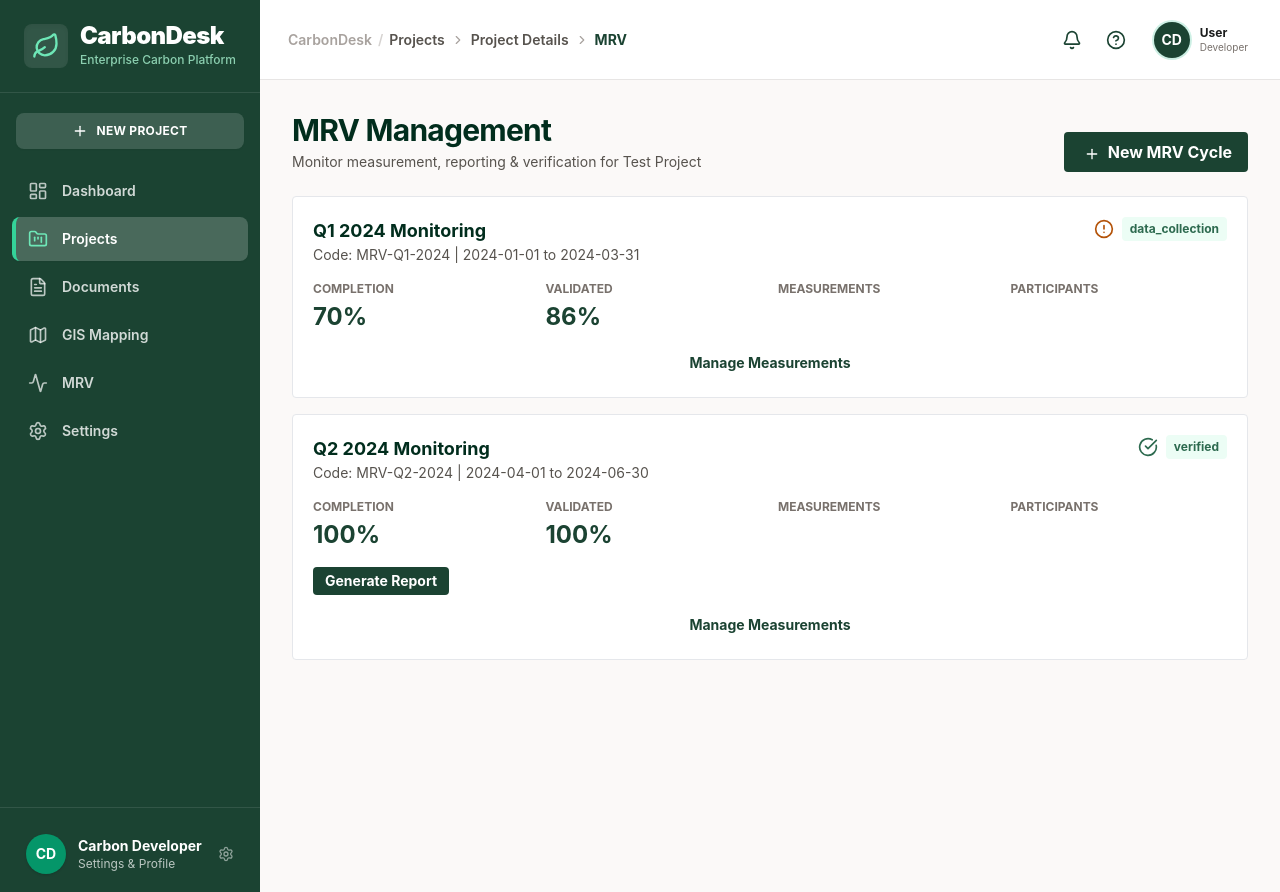
Test: MRVPage - Create Cycle Form › shows form when clicking Create button
The image size is (1280, 892).
Click the button "New MRV Cycle" at [1156, 152], box [1064,132,1248,172]
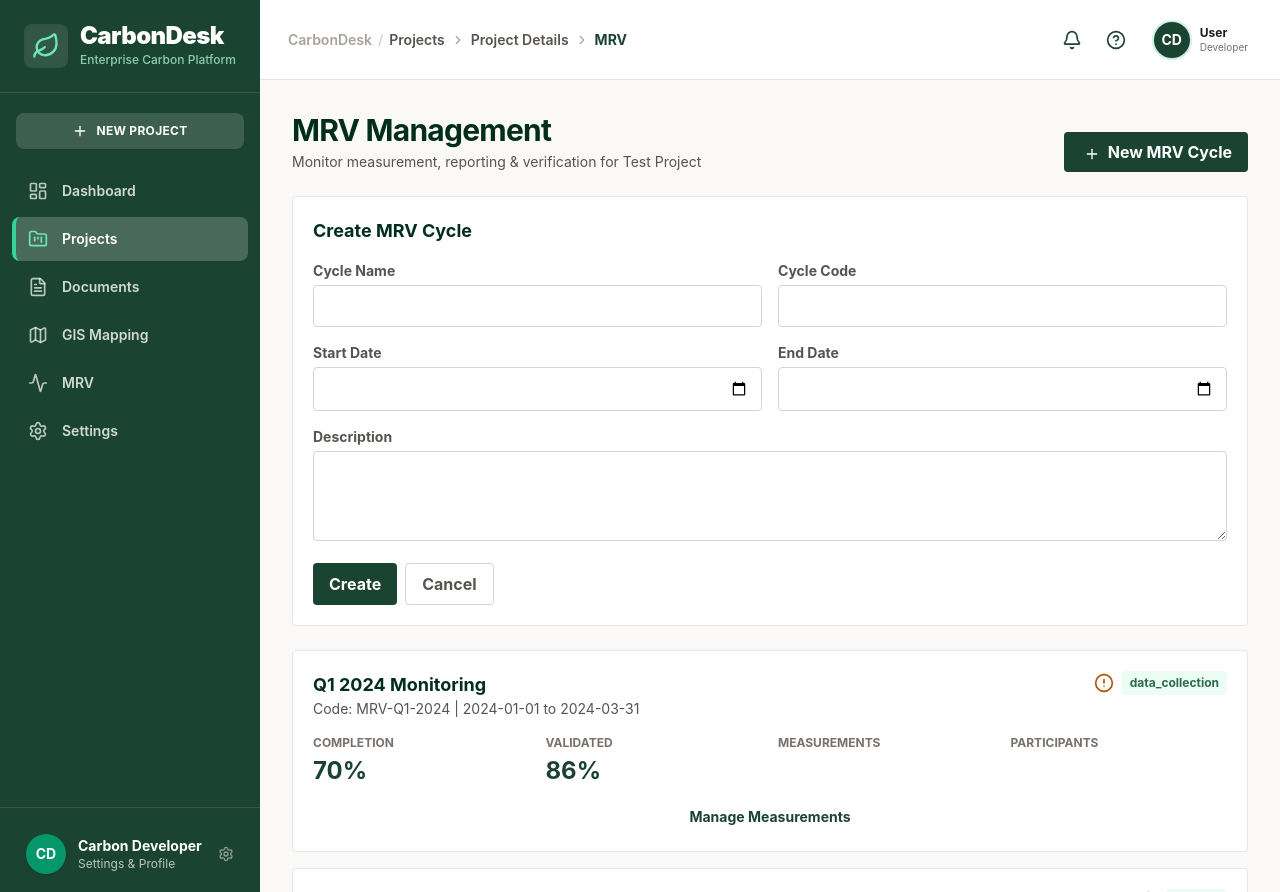
Expected: the heading "Create MRV Cycle" is shown, [313,220,472,241]
Expected: the field labelled "Cycle Name" is shown, [313,285,762,327]
